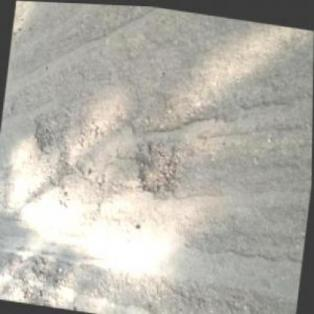Hueco: (130, 134, 184, 200), (31, 106, 61, 154)
